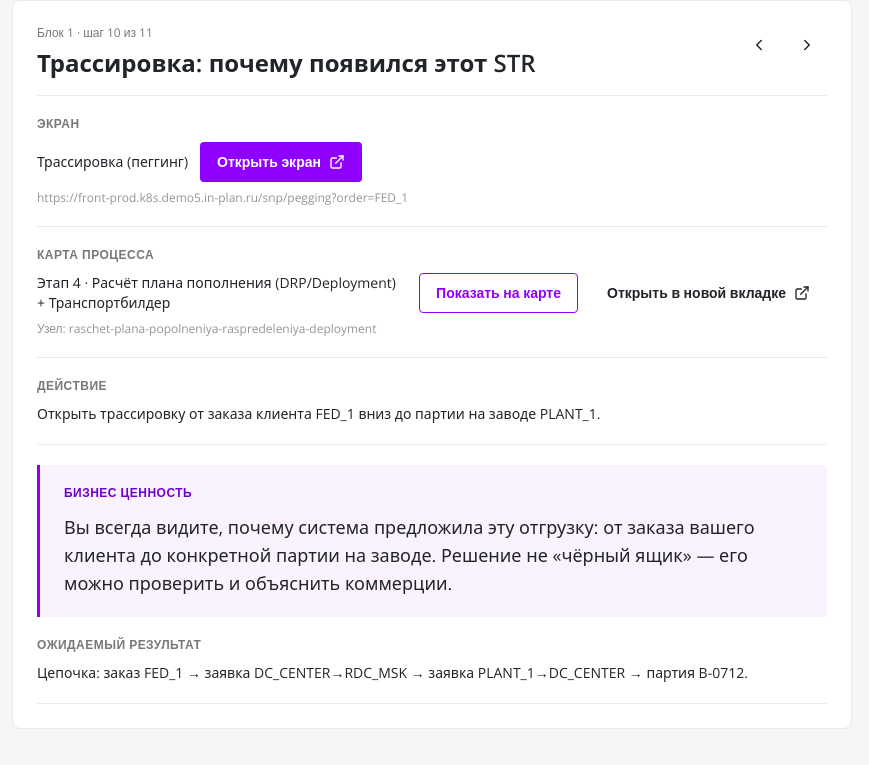
Test: ТК 16 (SPEC §8:412): «Открыть экран» → window.open(url, '_blank'), opener = null; null → тост › window.open вернул null (заблокировано) — тост «Браузер не дал открыть вкладку…»
Click the button "Открыть экран" at point(281, 162), box [200,142,362,182]
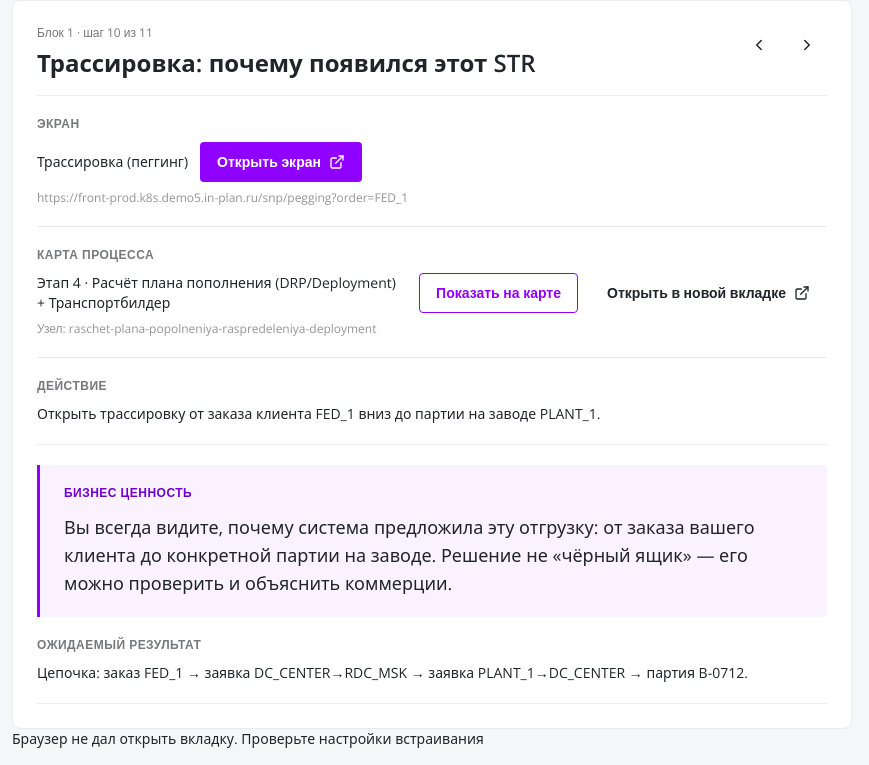
Check: the text with test id "toast-probe" reads "Браузер не дал открыть вкладку. Проверьте настройки встраивания", box [12,729,484,748]
